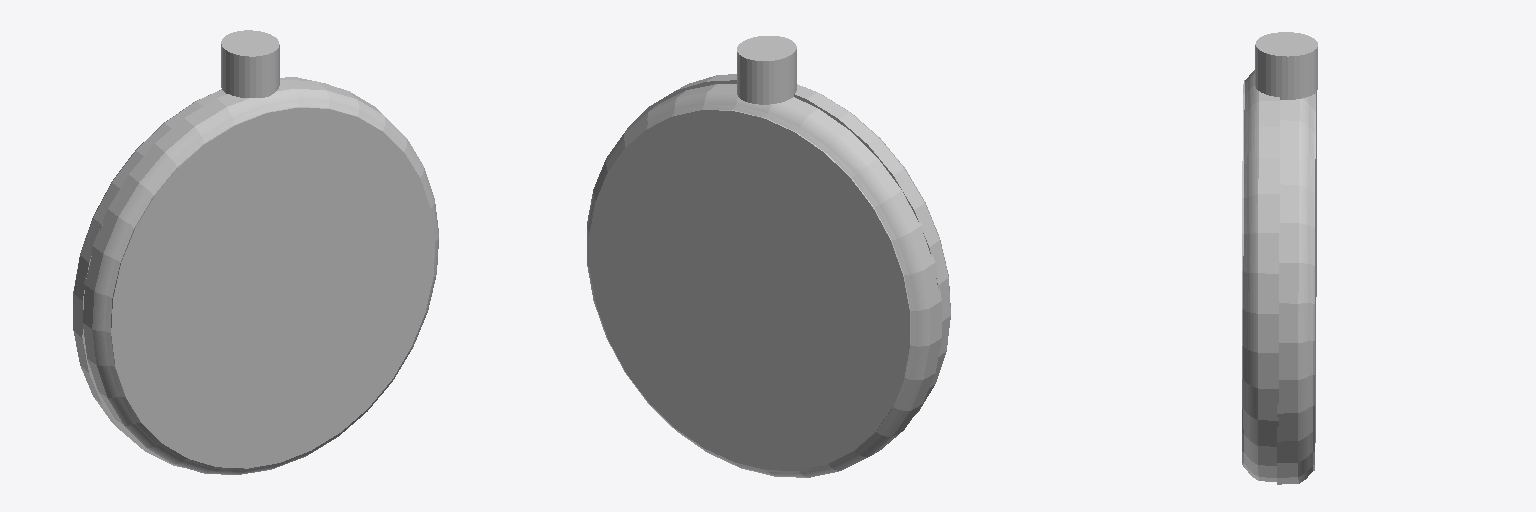
The model's file is Time_Machine.obj.
3 renders of one model, left to right at view 1: azimuth 30°, elevation 25°; view 2: azimuth 150°, elevation 25°; view 3: azimuth 270°, elevation 25°, orthographic.
Parts seen in each view (by area): view 1: Cylinder; view 2: Cylinder; view 3: Cylinder.
Part boxes in pixels (x1,y1,x2,y2): Cylinder: (73,30,438,474); Cylinder: (587,36,950,477); Cylinder: (1242,32,1317,484).
Size of the model in its own units: 1.79 by 2.07 by 0.3396.